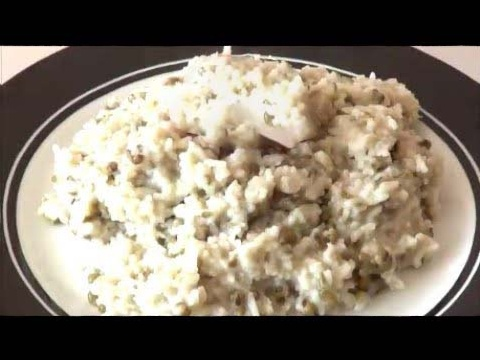kiribath: (39, 46, 443, 317)
